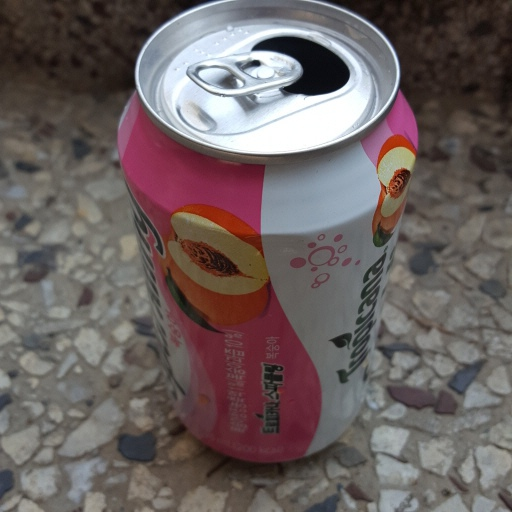Metal_0: (117, 1, 421, 465)
